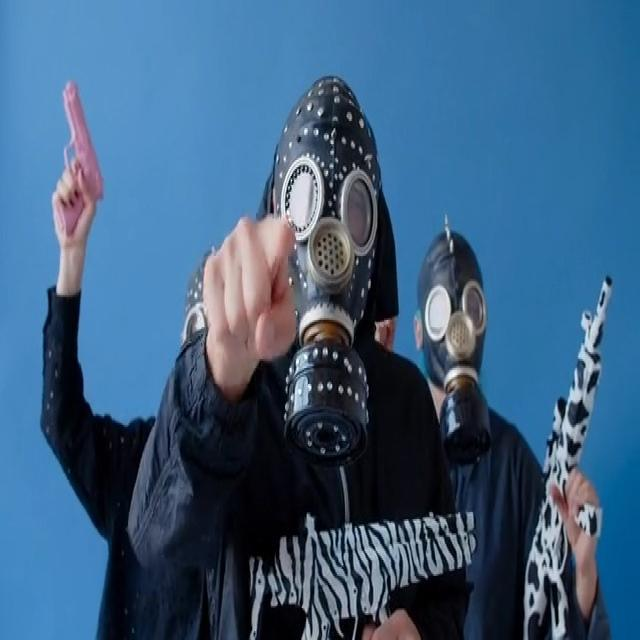Gun_Holder: (514, 251, 624, 640), (38, 77, 114, 264)
Person: (134, 72, 460, 640), (411, 222, 607, 640)
